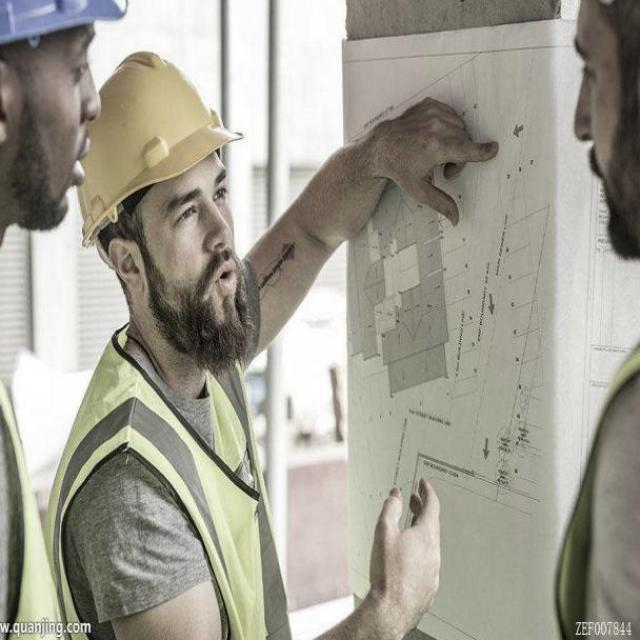helmet: (71, 42, 258, 395)
vest: (48, 367, 288, 639)
